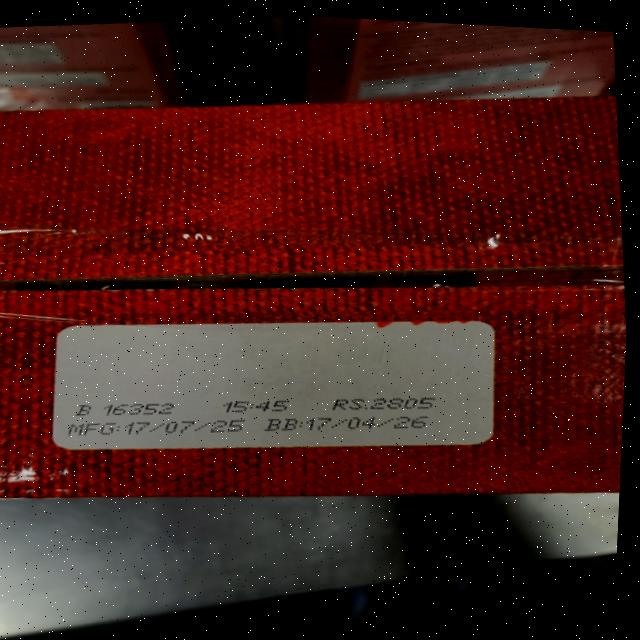BB: (265, 404, 434, 442)
Batch: (72, 395, 180, 423)
MFG: (67, 409, 236, 447)
RS: (330, 389, 437, 417)
TimeStamp: (221, 395, 291, 416)
